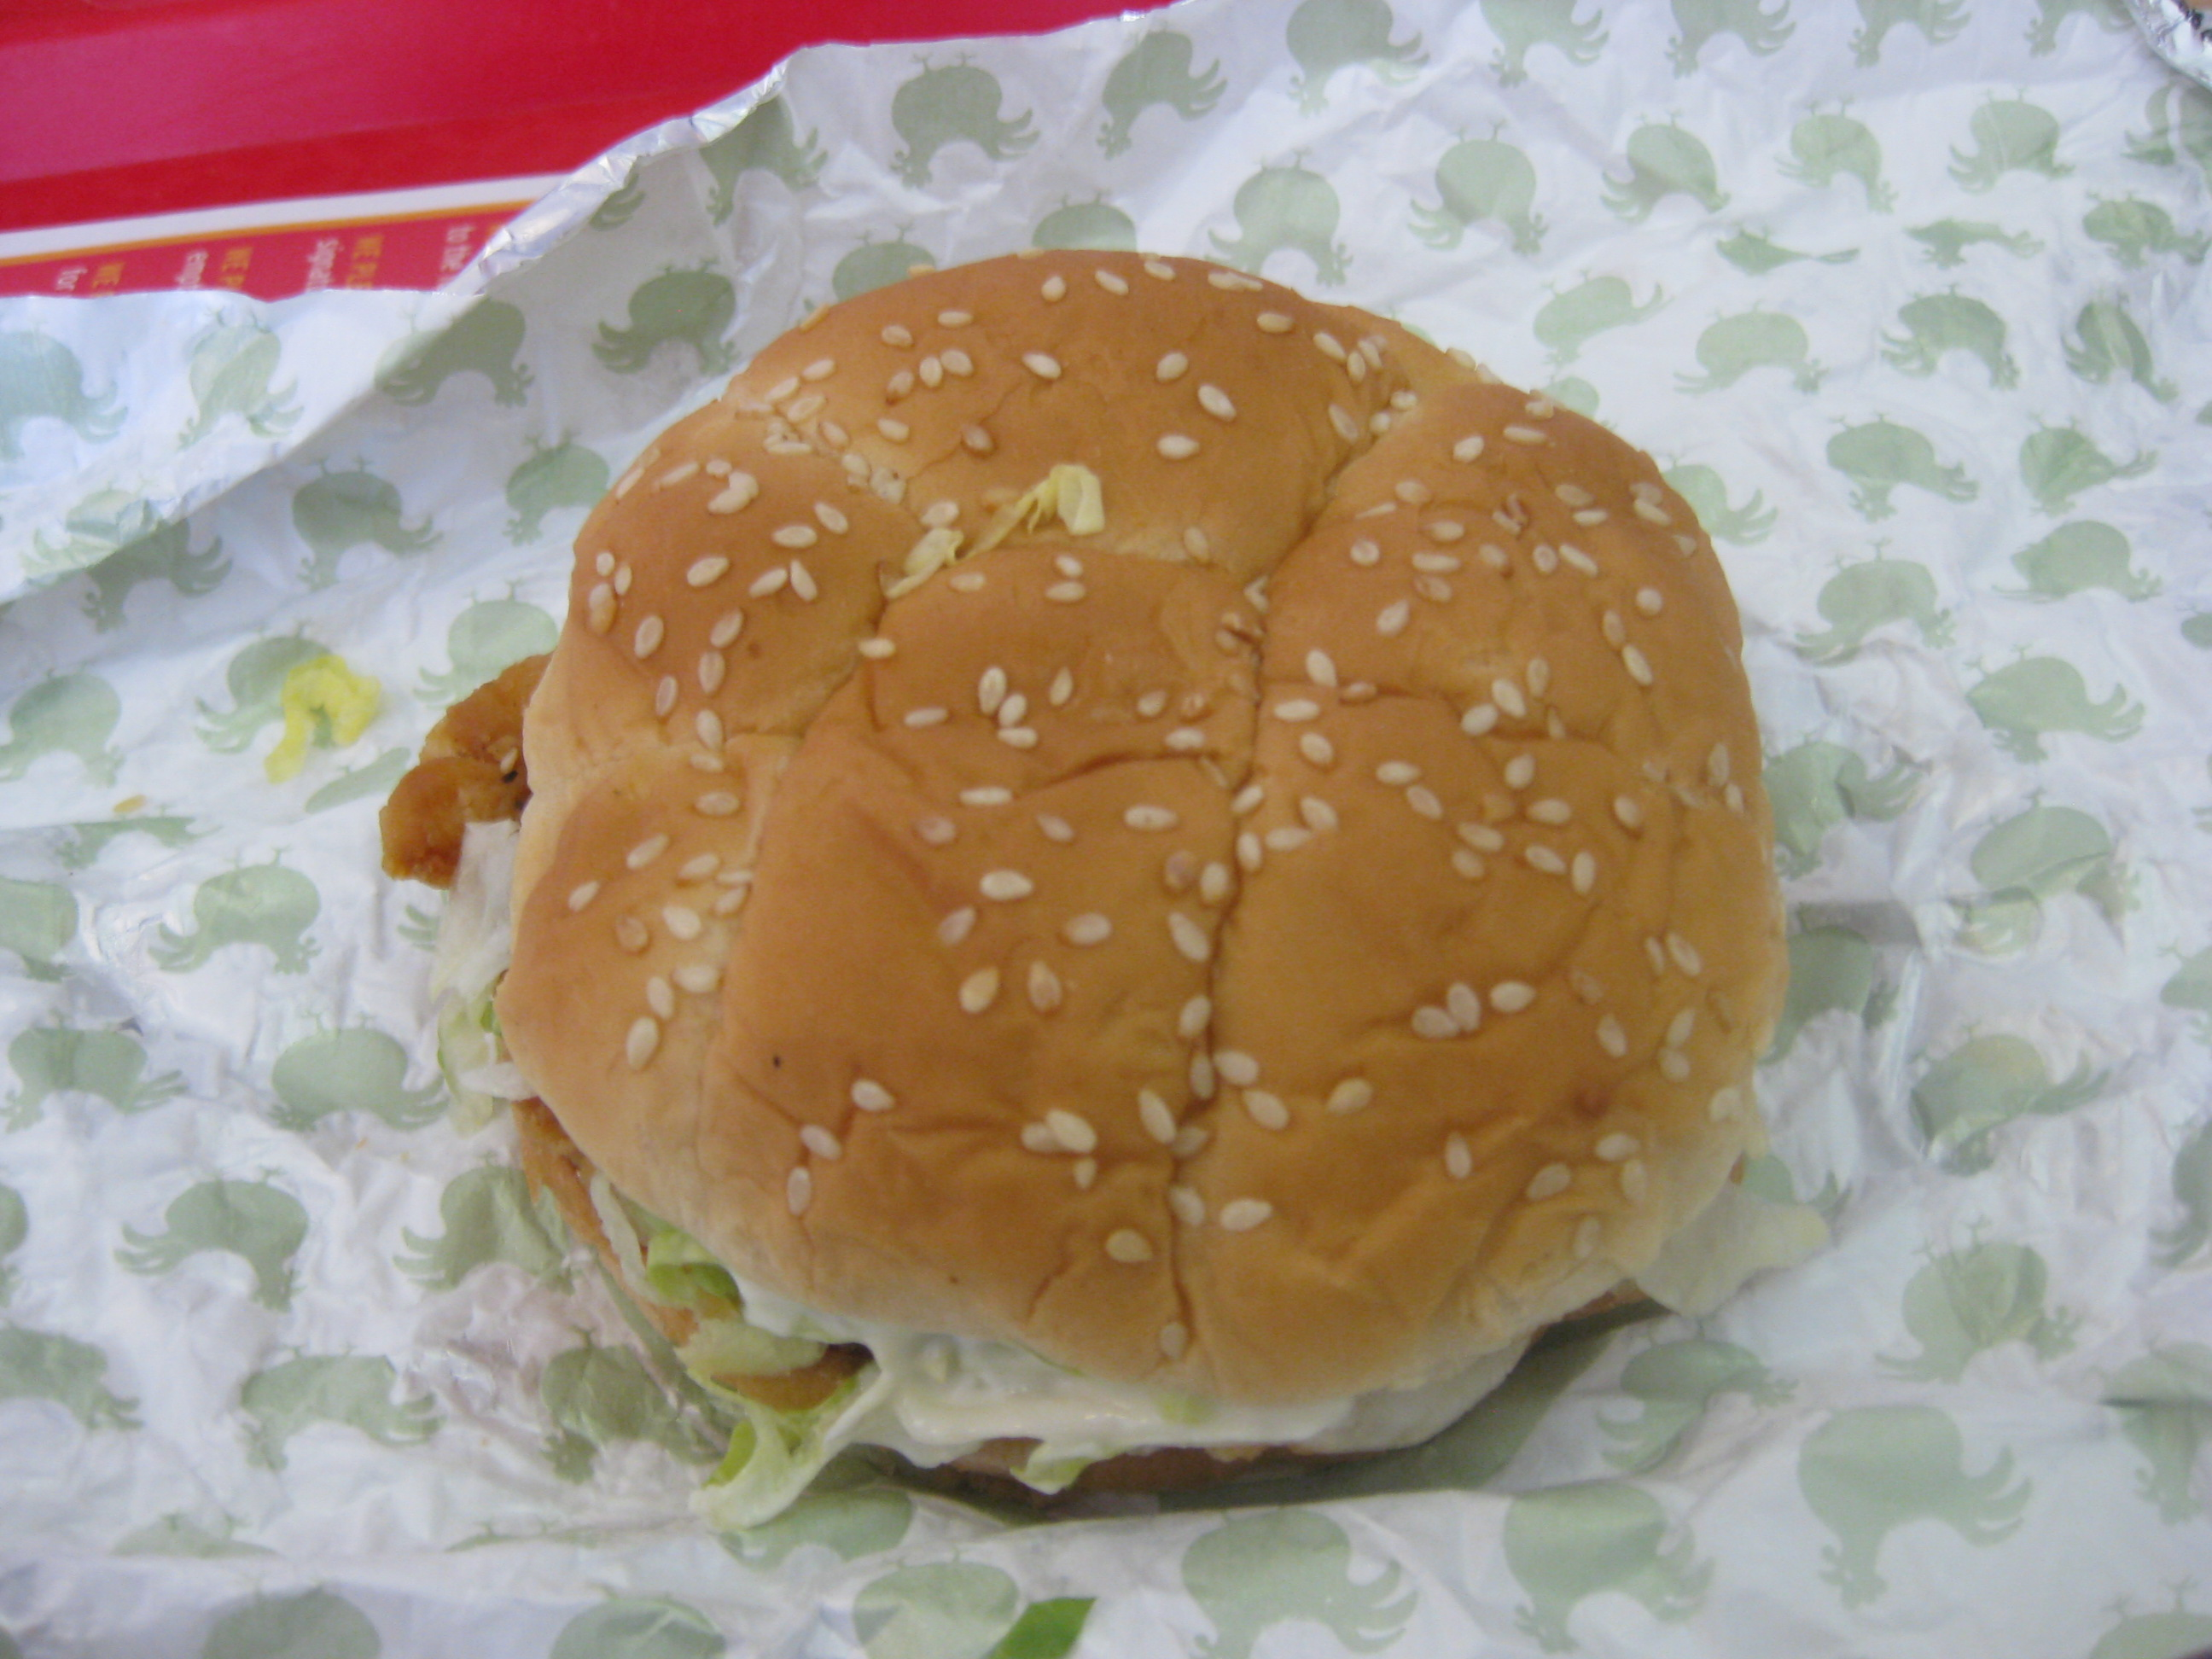burger: (437, 183, 1939, 1551)
